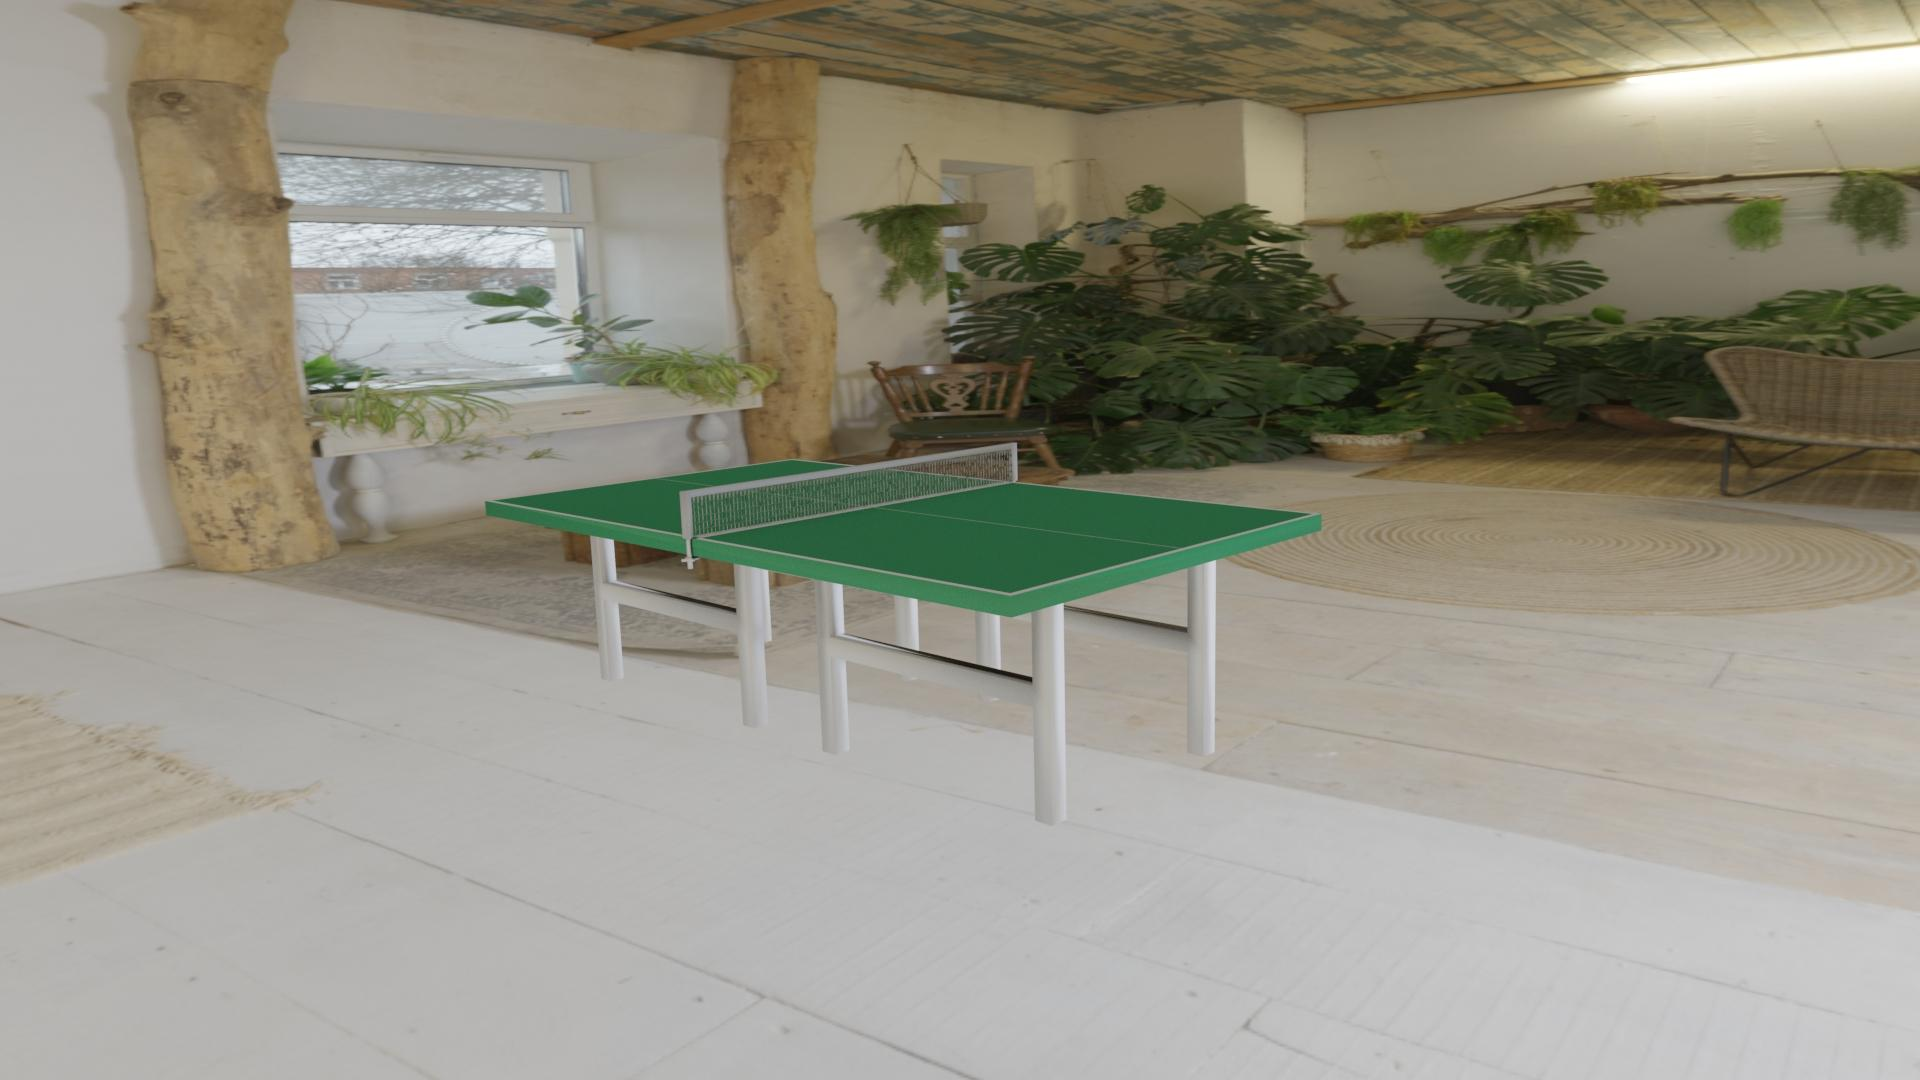table: (492, 460, 1313, 593)
